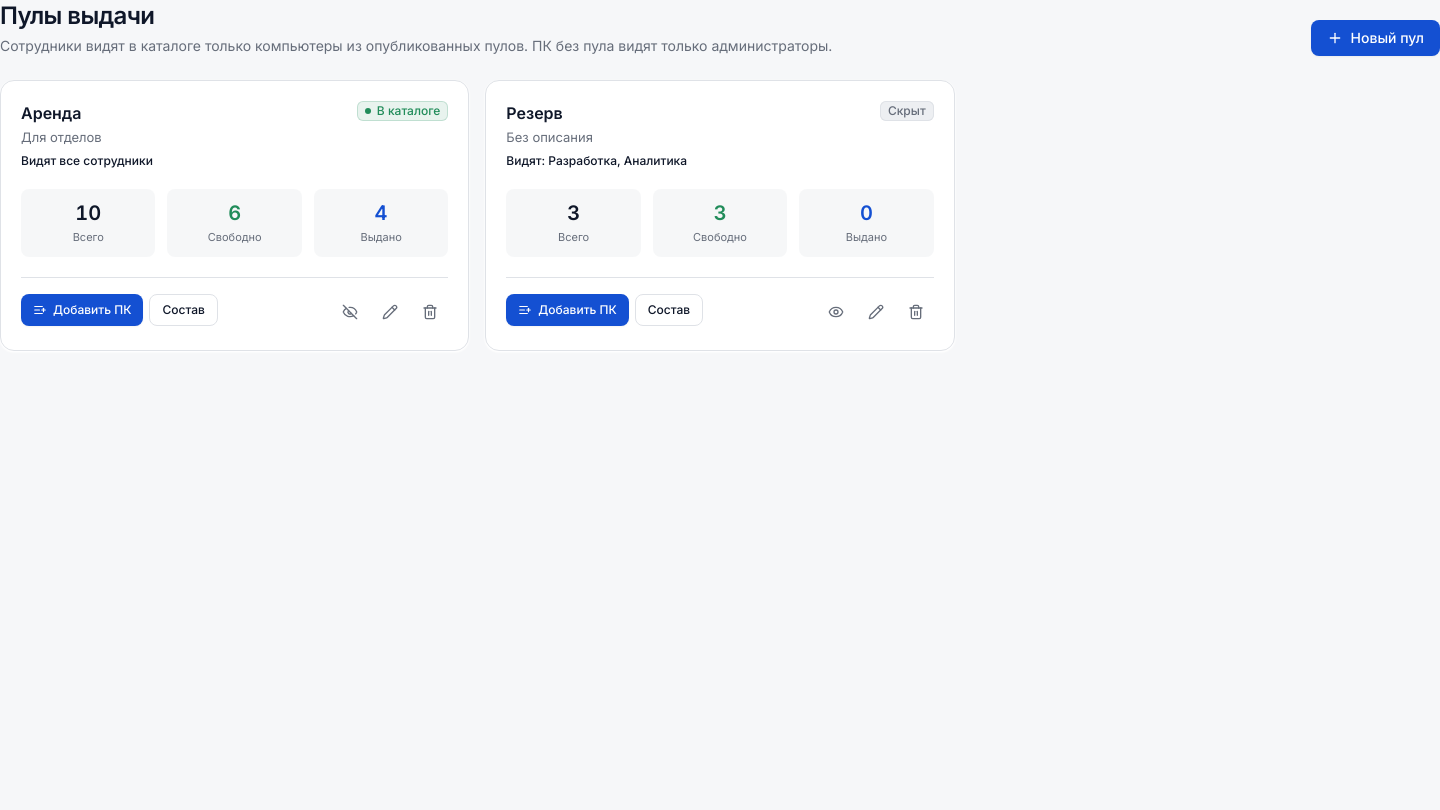
PoolsPage › создание и редактирование › создаёт пул: POST с отделами и описанием, тост, диалог закрывается
expect the text "Аренда" is shown: met, box [21,103,81,123]
Click the button "Новый пул": (1375, 38) [1311,20,1439,56]
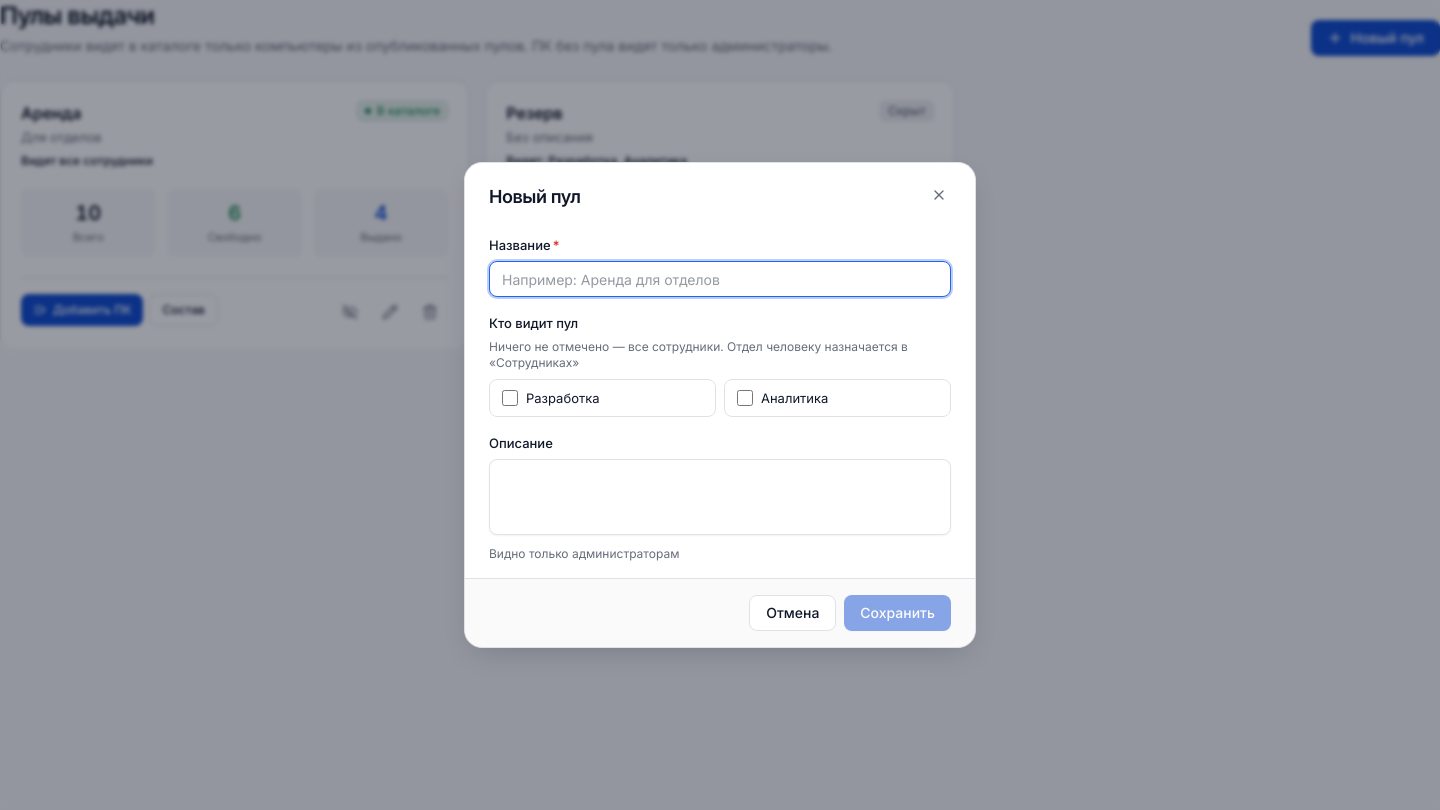
expect the dialog "Новый пул" is shown: met, box [464,162,976,648]
In the field labelled "Название*": (720, 279) [489,261,951,297], type "Тестовый"
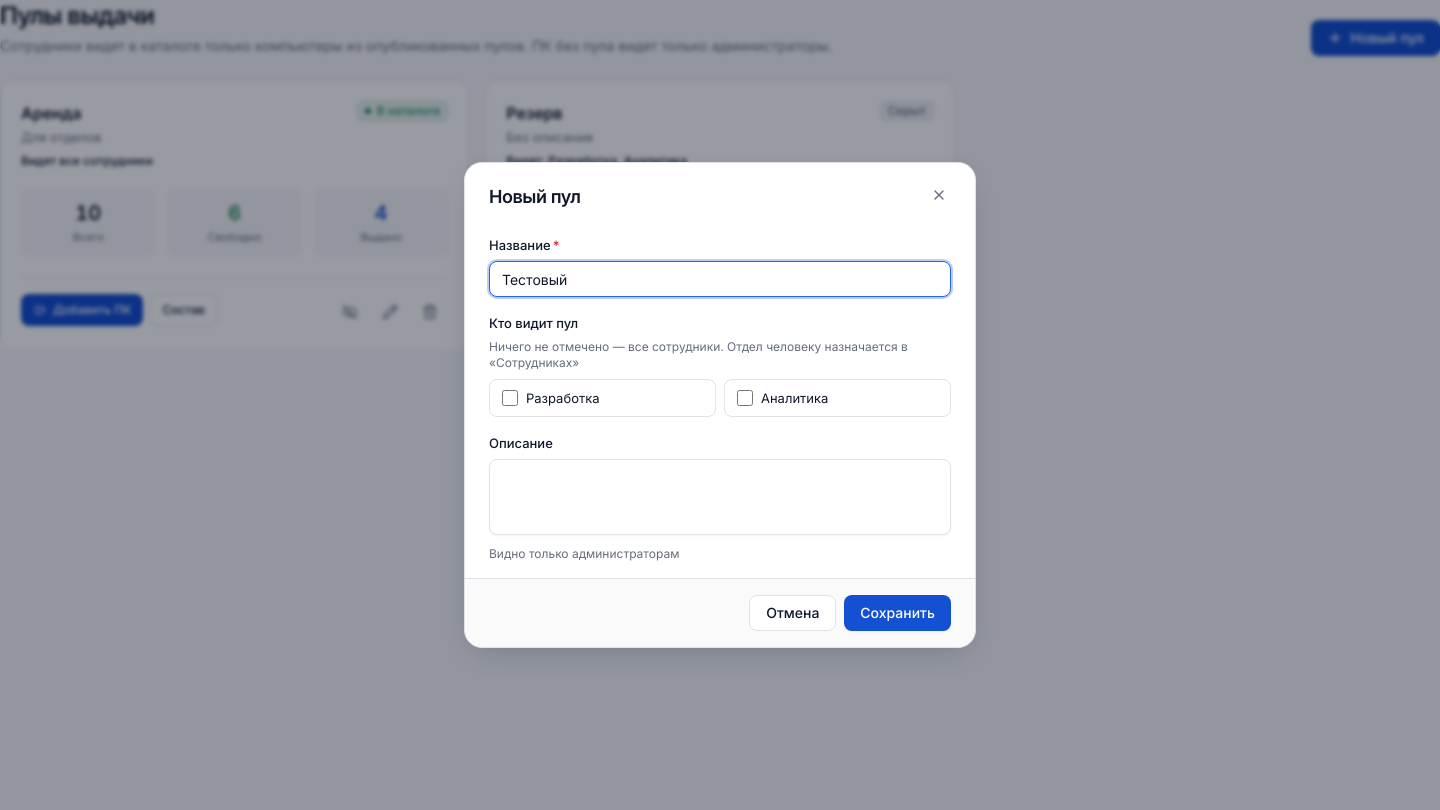
Click the checkbox labelled "Аналитика": (745, 398) [737,390,753,406]
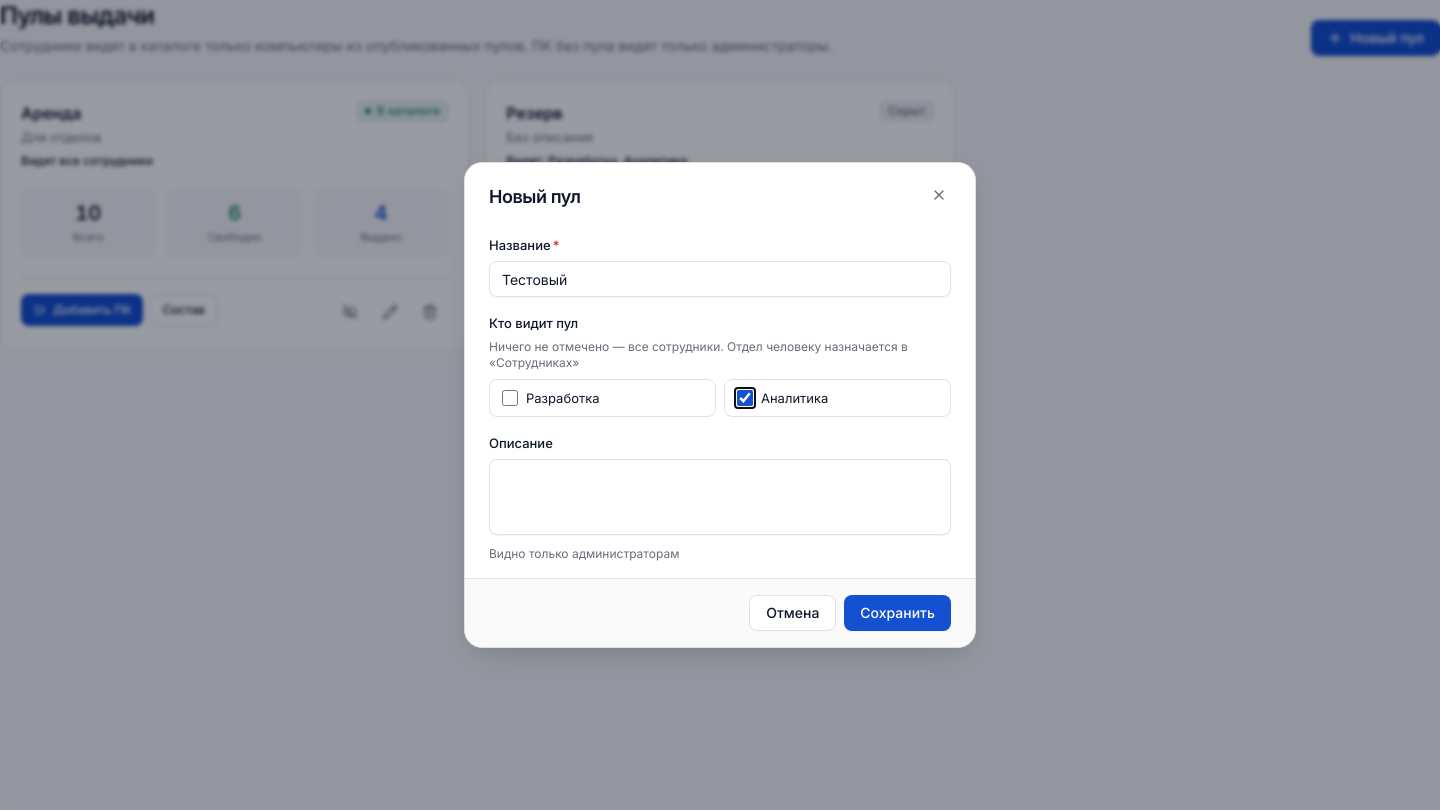
Click the checkbox labelled "Разработка": (510, 398) [502,390,518,406]
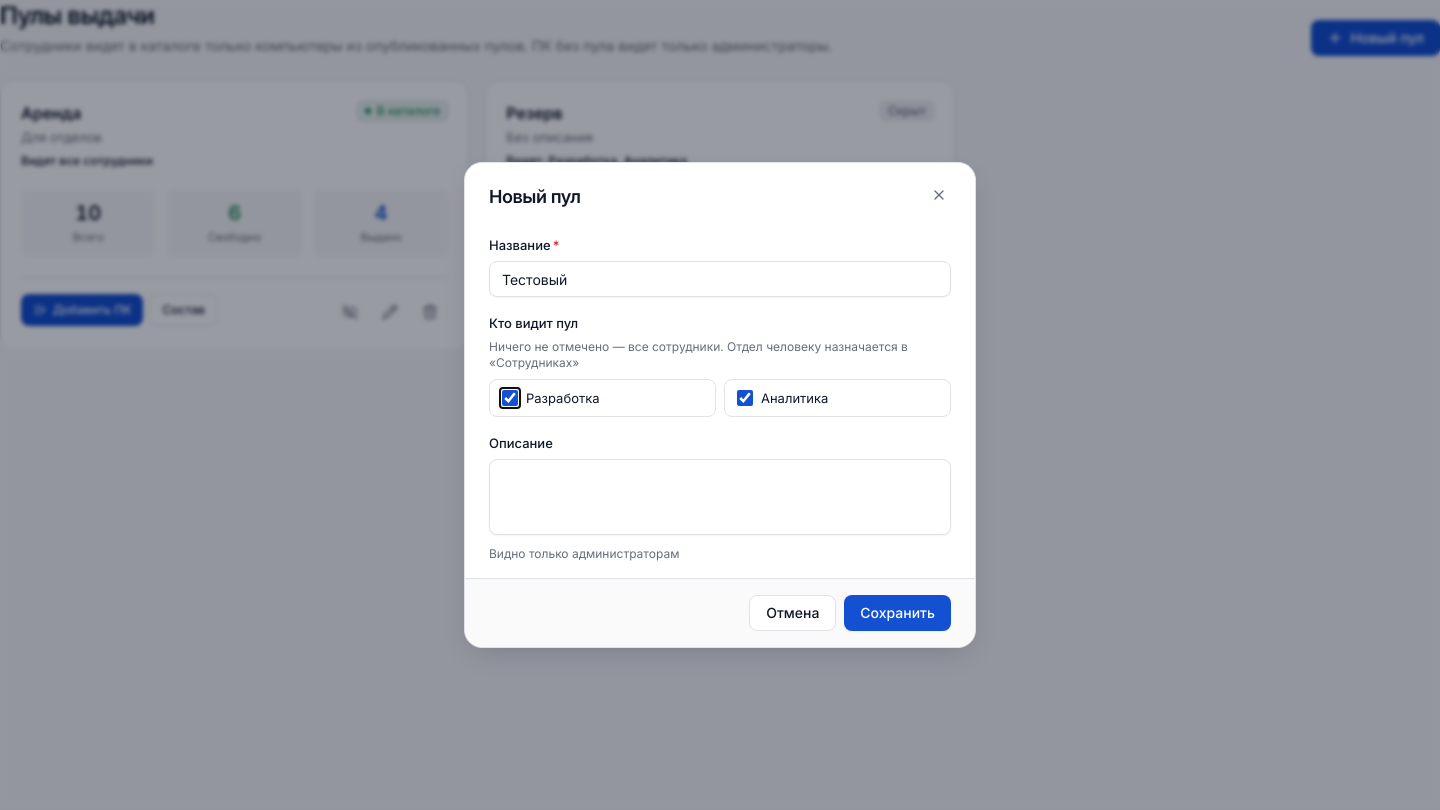
Click the checkbox labelled "Аналитика": (745, 398) [737,390,753,406]
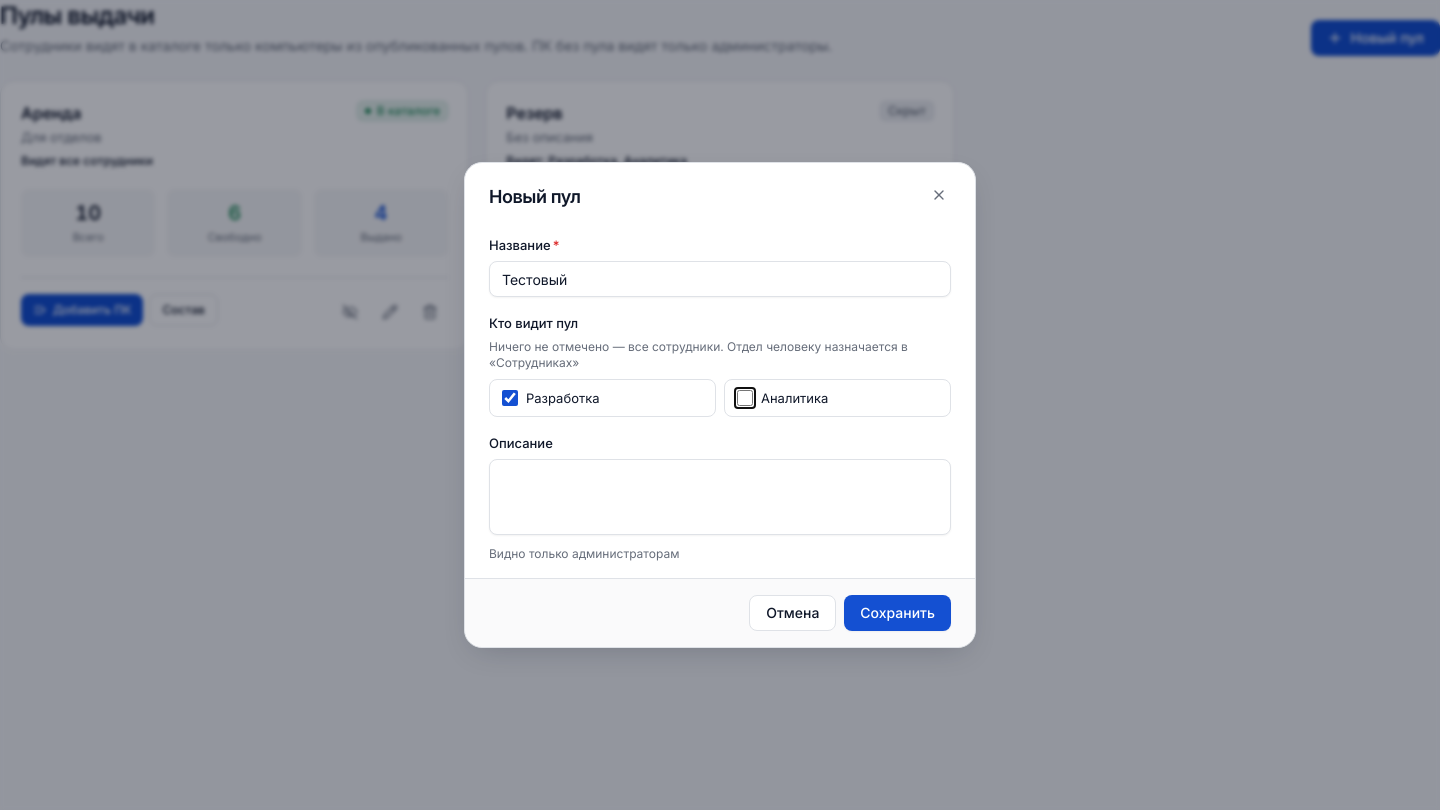
In the text box labelled "Описание Видно только администраторам": (720, 497) [489,459,951,535], type "Только для тестов"
Click the button "Сохранить": (898, 613) [844,595,951,631]
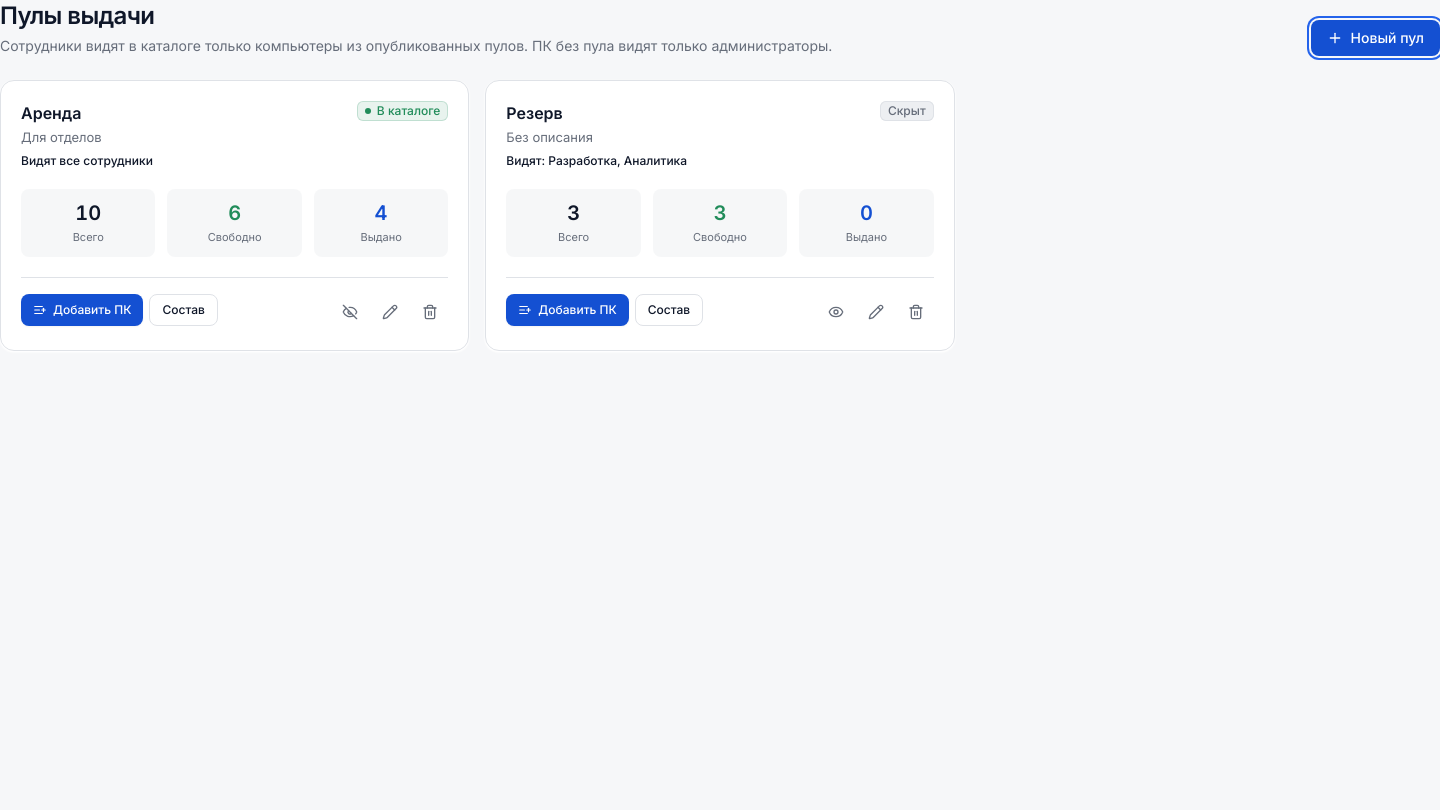
expect the dialog is gone: met
